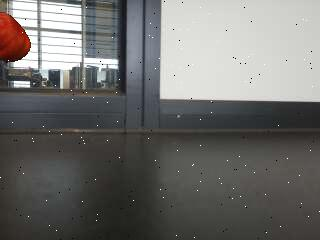Pumpkin: (0, 12, 31, 62)
